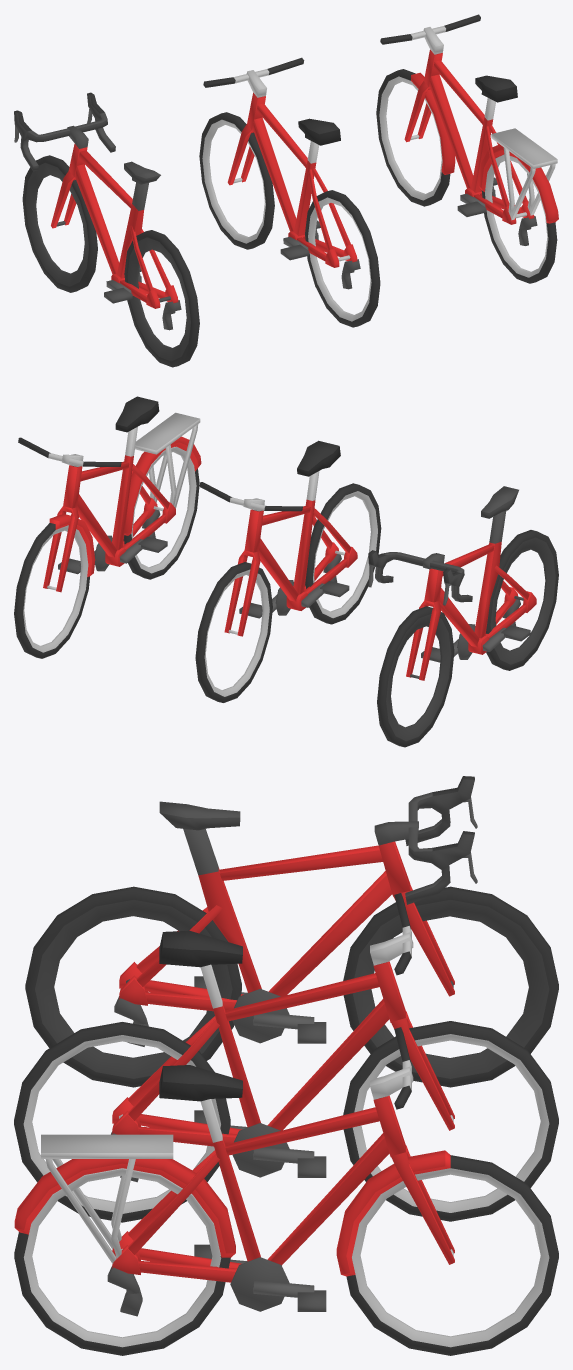
Rendered from ultra_low_poly_bicycles__set_of_3.glb.
The picture shows the model from 3 angles, top to bottom: view 1: azimuth 30°, elevation 25°; view 2: azimuth 150°, elevation 25°; view 3: azimuth 270°, elevation 25°; orthographic projection. The views are drawn at different scales.
Visible parts, largest first — view 1: Object_2; view 2: Object_2; view 3: Object_2.
Boxes of the visible parts, x1,y1,x2,y2 form: Object_2: (14,14,558,367); Object_2: (14,396,558,747); Object_2: (14,776,558,1355).
Bounding box in the file's own units: 2.51 × 1.01 × 1.72.
Materials: 1 (1 with a texture image).
